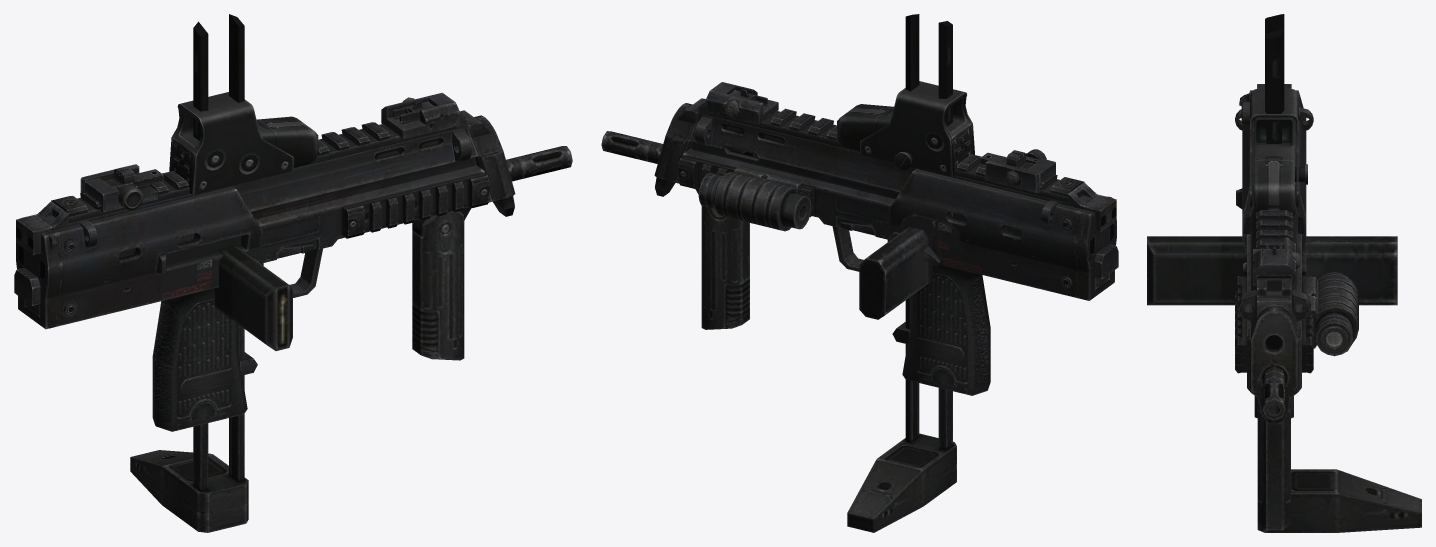
The model's file is MP7_DotSight.obj.
3 views of the same model, side by side, from view 1: azimuth 30°, elevation 25°; view 2: azimuth 150°, elevation 25°; view 3: azimuth 270°, elevation 25° (orthographic). The views are drawn at different scales.
Parts seen in each view (by area): view 1: Part_3, Part_0, MergedGeo, Part_2; view 2: Part_3, Part_0, MergedGeo, Part_2; view 3: Part_3, Part_2, Part_0, MergedGeo.
Part boxes in pixels (box(x1,y1,x2,y2)): Part_3: box(14, 92, 572, 431); Part_0: box(130, 14, 248, 532); MergedGeo: box(169, 92, 318, 195); Part_2: box(215, 245, 292, 350); Part_3: box(601, 82, 1118, 395); Part_0: box(847, 14, 956, 532); MergedGeo: box(837, 81, 974, 176); Part_2: box(859, 226, 932, 319); Part_3: box(1235, 84, 1358, 530); Part_2: box(1147, 236, 1397, 305); Part_0: box(1257, 14, 1421, 532); MergedGeo: box(1250, 89, 1307, 215).
Bounding box in the file's own units: 0.3498 × 0.308 × 0.1536.
Materials: 2 (2 with a texture image).
